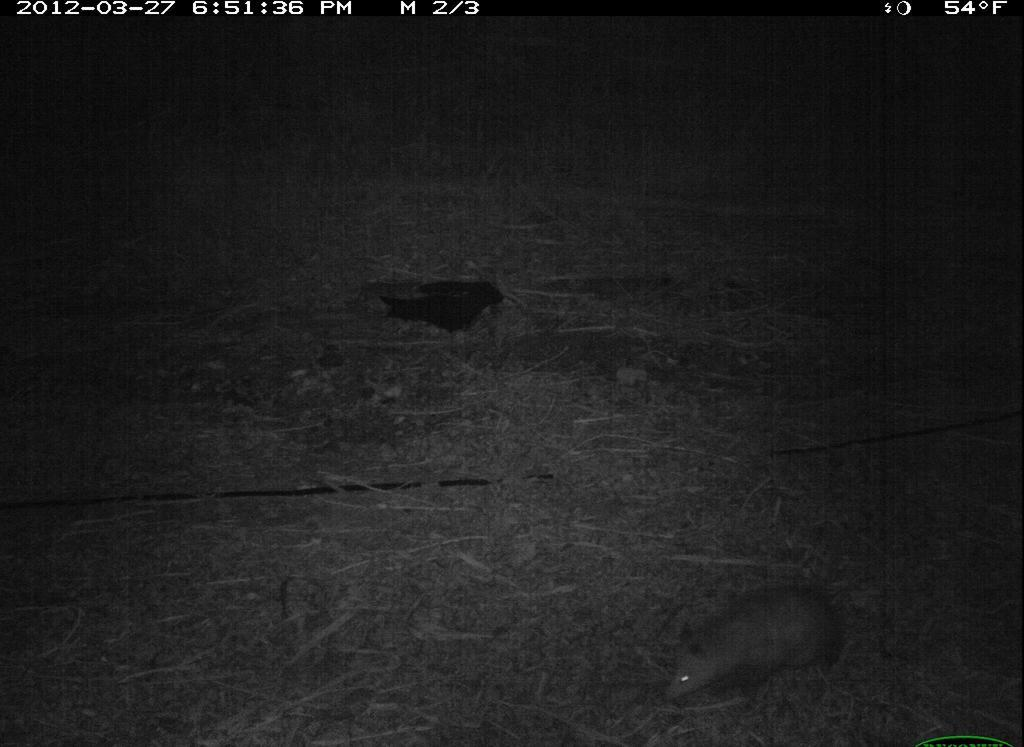opossum: (649, 566, 859, 712)
